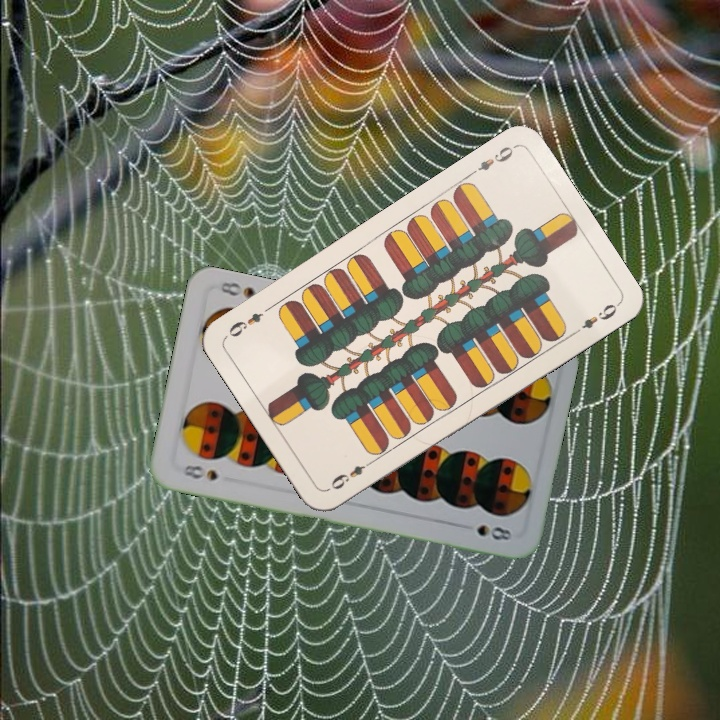E9: (465, 141, 518, 179), (327, 456, 377, 493)
S8: (178, 460, 220, 483)
